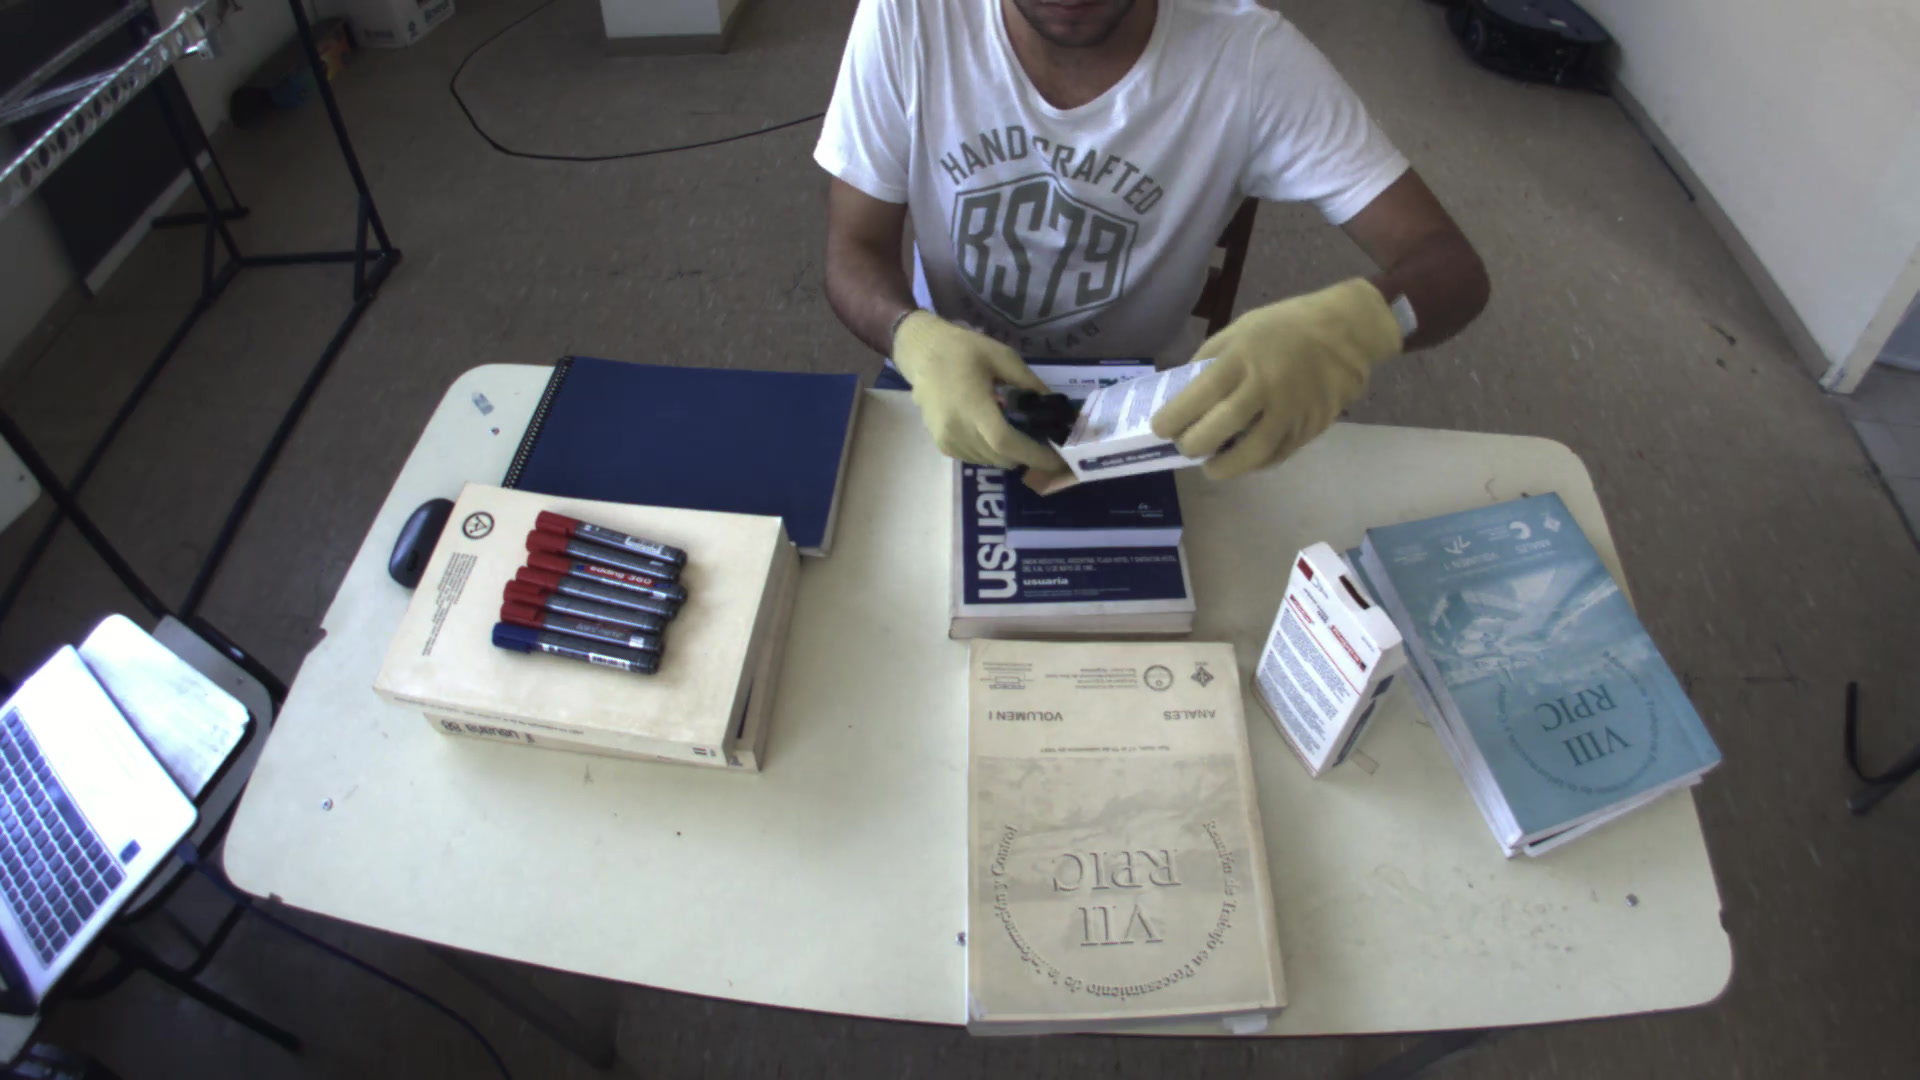hand: (1146, 266, 1415, 487), (876, 298, 1101, 496)
